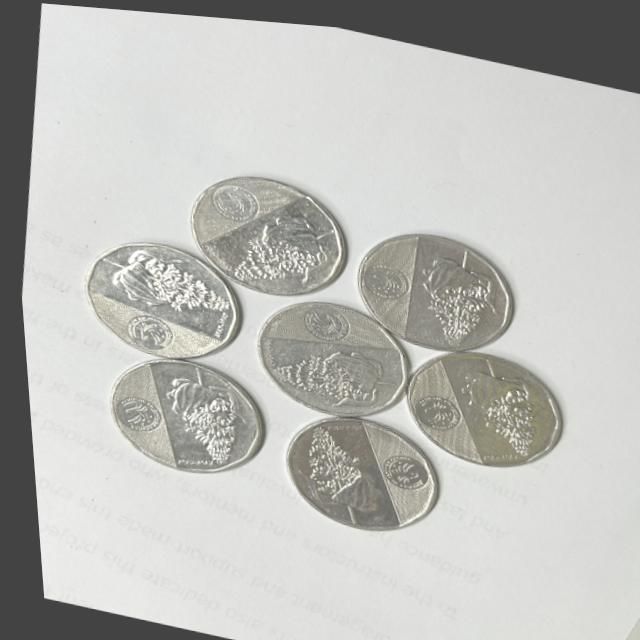10_New_Back: (430, 347, 558, 461), (140, 360, 267, 467), (199, 205, 331, 299), (272, 420, 381, 531), (95, 240, 227, 325), (403, 233, 501, 341), (256, 332, 387, 412)
